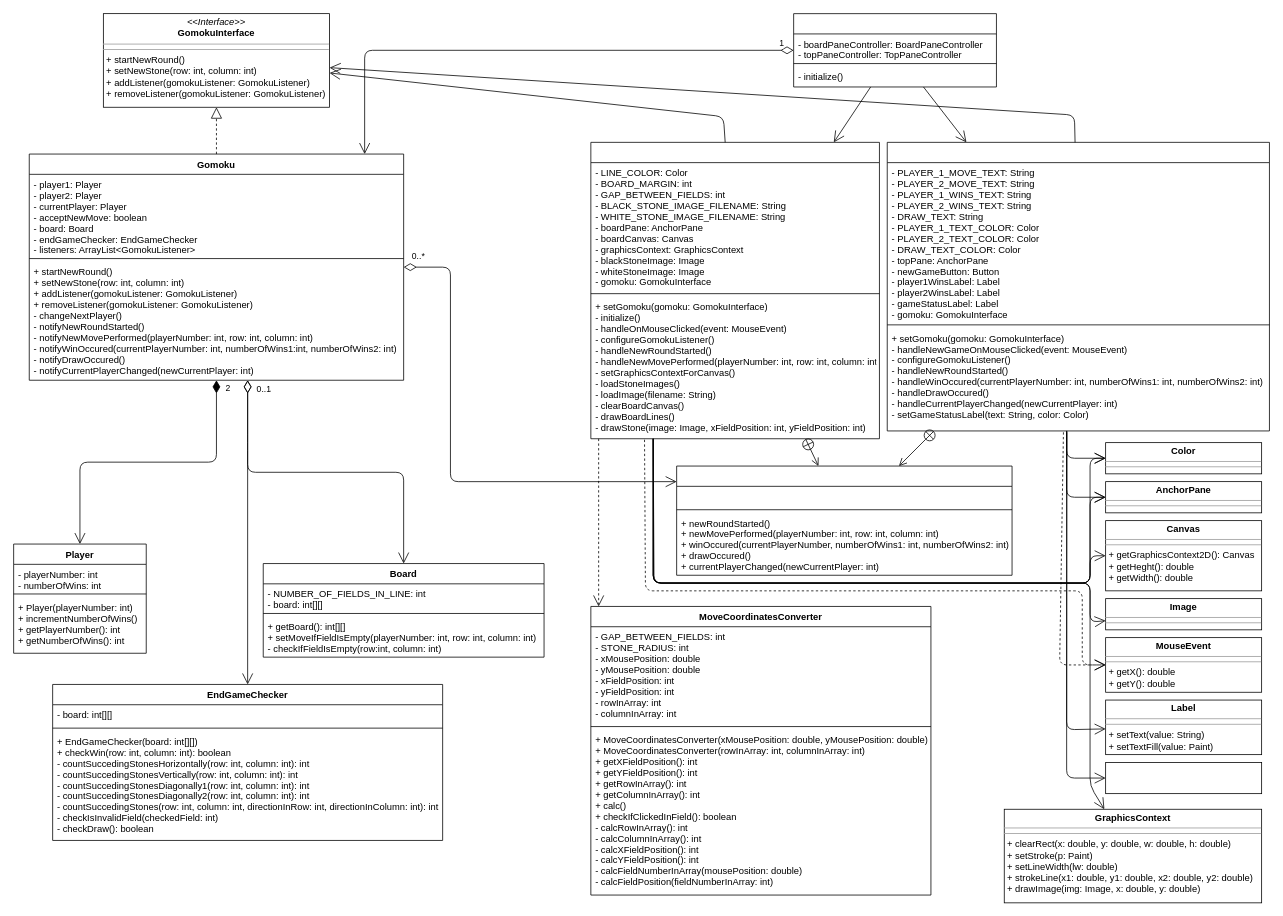
Some shapes in this 1283 by 916 pixel diagram are drawn without their labels. The shapes that lost their labels are listed below. From the top down, each one's box as (x1, y1, x2, y2) in pixels, then its label:
(793, 13, 996, 87): MainController
(590, 142, 879, 439): BoardPaneController
(886, 142, 1269, 431): TopPaneController
(676, 465, 1012, 575): GomokuListener
(1105, 762, 1262, 794): Button
